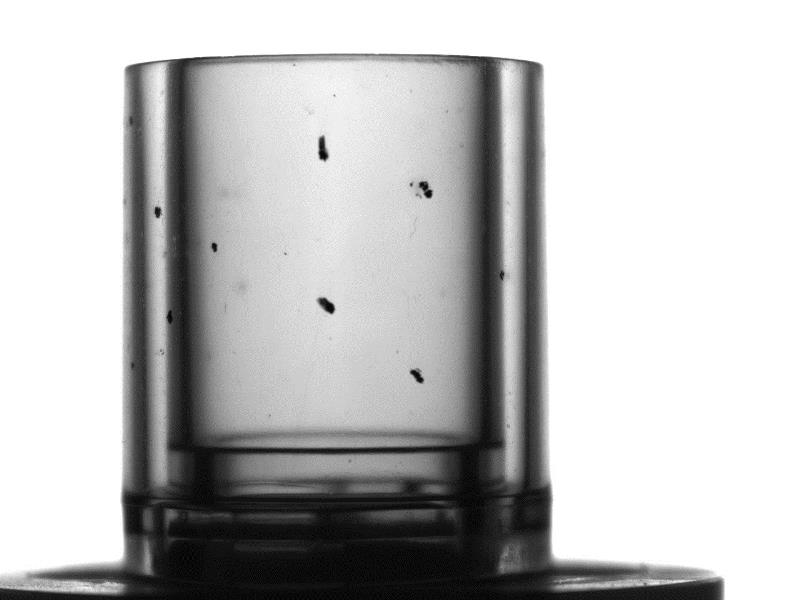blackdot: (407, 177, 437, 201), (315, 134, 331, 164), (315, 296, 338, 316), (408, 367, 429, 386), (495, 265, 512, 284), (151, 203, 166, 221), (165, 306, 180, 322), (209, 240, 221, 254)
